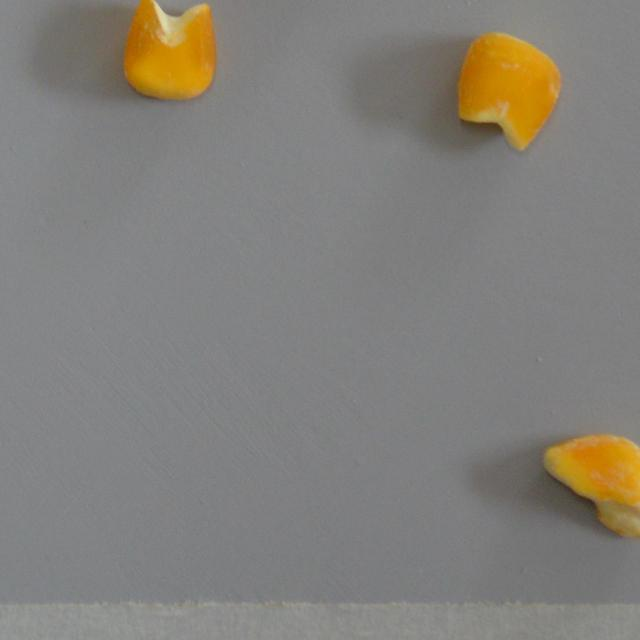no_canjicado: (455, 31, 561, 150), (121, 0, 216, 102)
pelicula: (542, 430, 640, 539)
